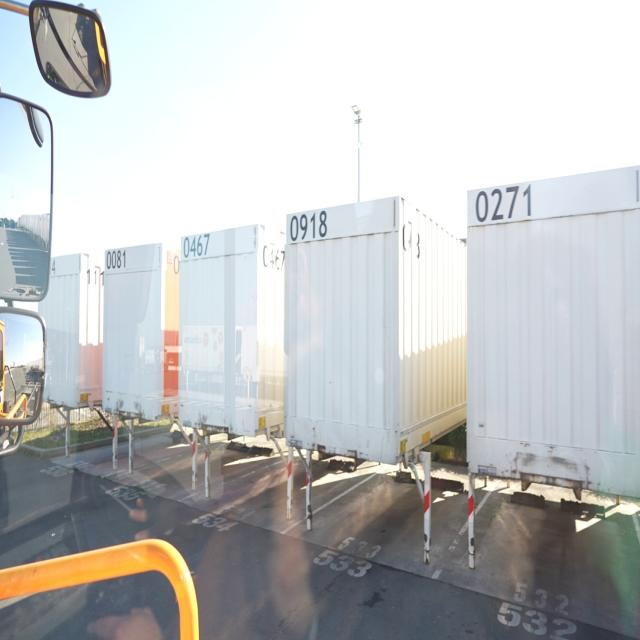Code: (473, 182, 535, 227), (286, 206, 329, 247), (180, 228, 211, 263), (104, 246, 129, 273)
